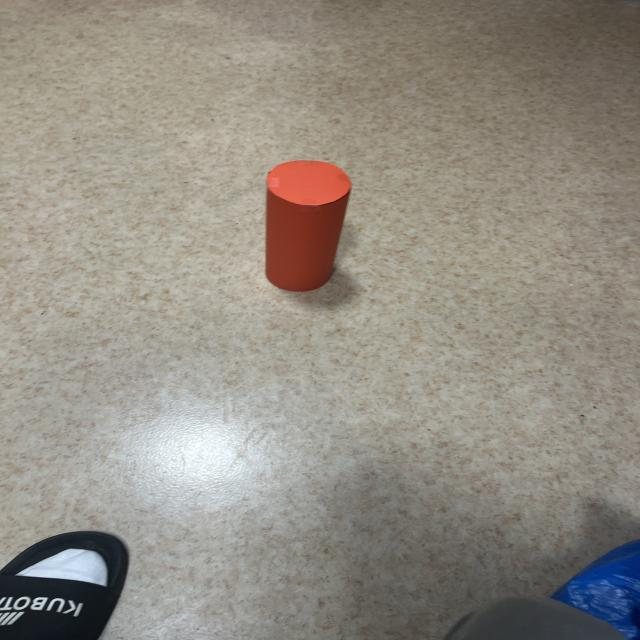przeszkoda: (266, 161, 351, 291)
